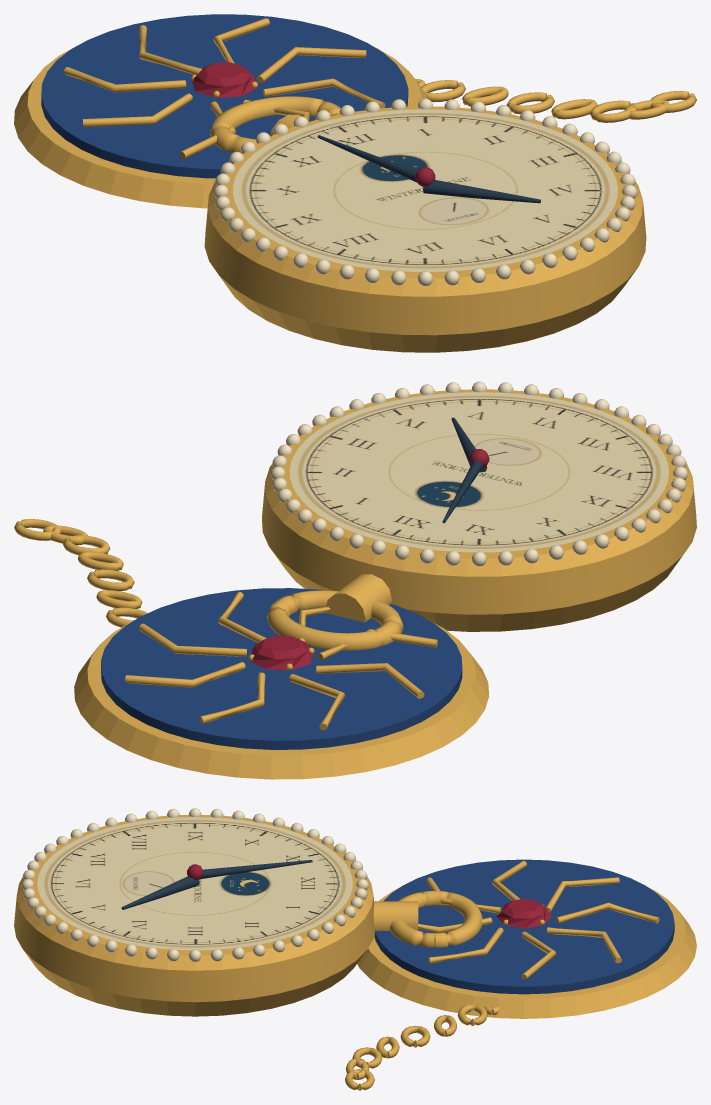
File: pocket_watch.fbx
The picture shows the model from 3 angles, top to bottom: view 1: azimuth 30°, elevation 25°; view 2: azimuth 150°, elevation 25°; view 3: azimuth 270°, elevation 25°; orthographic projection. The views are drawn at different scales.
Visible parts, largest first — view 1: pocket_watch joinery; view 2: pocket_watch joinery; view 3: pocket_watch joinery.
Boxes of the visible parts, x1,y1,x2,y2 form: pocket_watch joinery: (14, 14, 696, 352); pocket_watch joinery: (14, 381, 696, 779); pocket_watch joinery: (14, 808, 696, 1090).
Size of the model in its own units: 0.0953 by 0.018 by 0.1225.
6 materials, 1 textured.
